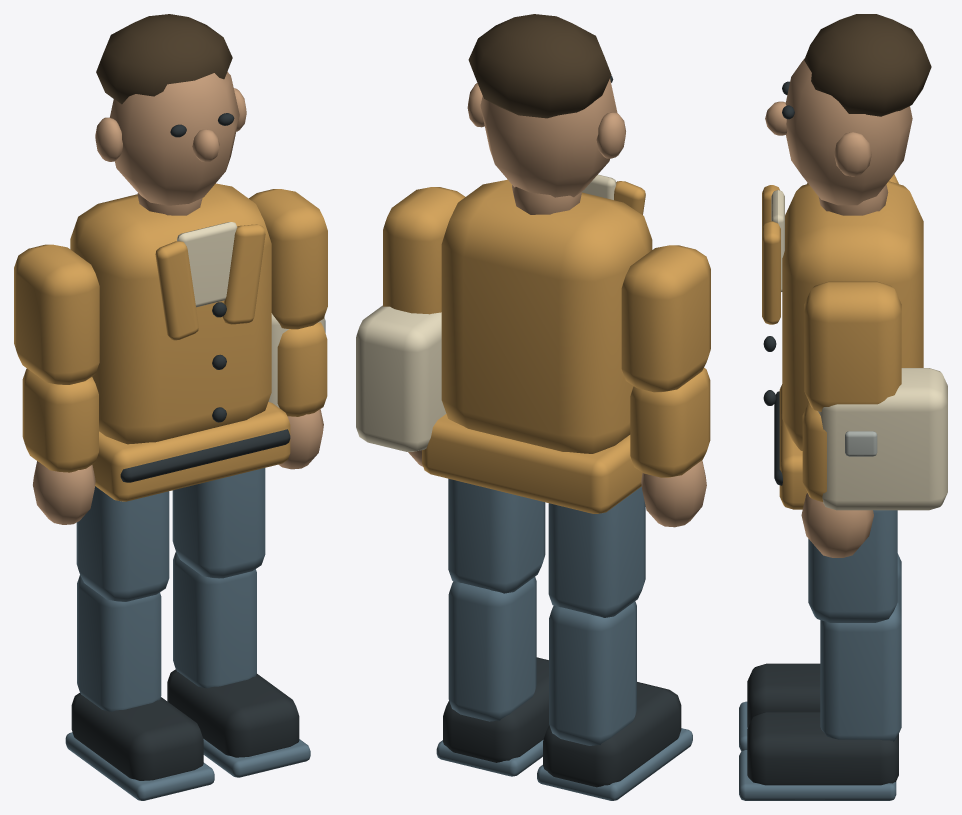
The model's file is Resident.glb.
3 renders of one model, left to right at view 1: azimuth 30°, elevation 25°; view 2: azimuth 150°, elevation 25°; view 3: azimuth 270°, elevation 25°, orthographic. The views are drawn at different scales.
Visible parts, largest first — view 1: Coat, Head, Sleeve, Trouser calf, Trouser calf.001, Trouser thigh, Trouser thigh.001, Coat hem, Hair, Shoe, Sleeve.001, Shoe.001 (+14 smaller); view 2: Coat, Coat hem, Sleeve, Hair, Satchel, Trouser calf.001, Trouser calf, Trouser thigh, Trouser thigh.001, Head, Sleeve.001, Shoe (+8 smaller); view 3: Coat, Satchel, Sleeve.001, Trouser calf.001, Hair, Head, Shoe.001, Trouser thigh.001, Shoe, Hand.001, Shoe sole.001, Cuff.001 (+10 smaller).
Boxes of the visible parts, box(x1,y1,x2,y2) form: Coat: box(70, 183, 271, 444); Head: box(109, 72, 239, 205); Sleeve: box(14, 244, 99, 384); Trouser calf: box(77, 575, 161, 711); Trouser calf.001: box(173, 552, 256, 688); Trouser thigh: box(76, 486, 169, 601); Trouser thigh.001: box(172, 468, 265, 578); Coat hem: box(92, 402, 290, 501); Hair: box(96, 14, 232, 104); Shoe: box(71, 693, 203, 780); Sleeve.001: box(249, 189, 327, 329); Shoe.001: box(167, 669, 299, 757); Coat: box(441, 179, 652, 453); Coat hem: box(422, 414, 642, 513); Sleeve: box(621, 245, 710, 392); Hair: box(468, 14, 611, 118); Satchel: box(356, 305, 446, 451); Trouser calf.001: box(448, 577, 536, 721); Trouser calf: box(549, 601, 636, 745); Trouser thigh: box(548, 486, 645, 617); Trouser thigh.001: box(448, 478, 545, 593); Head: box(480, 79, 617, 197); Sleeve.001: box(383, 187, 465, 314); Shoe: box(543, 682, 681, 787); Coat: box(782, 181, 923, 450); Satchel: box(818, 368, 947, 510); Sleeve.001: box(804, 281, 901, 411); Trouser calf.001: box(820, 602, 901, 741); Hair: box(804, 14, 931, 116); Head: box(785, 58, 912, 205); Shoe.001: box(747, 712, 898, 785); Trouser thigh.001: box(808, 510, 897, 622); Shoe: box(747, 663, 820, 727); Hand.001: box(801, 493, 873, 557); Shoe sole.001: box(739, 750, 896, 800); Cuff.001: box(802, 402, 826, 501).
Bounding box in the file's own units: 0.6465 × 1.5 × 0.385.
